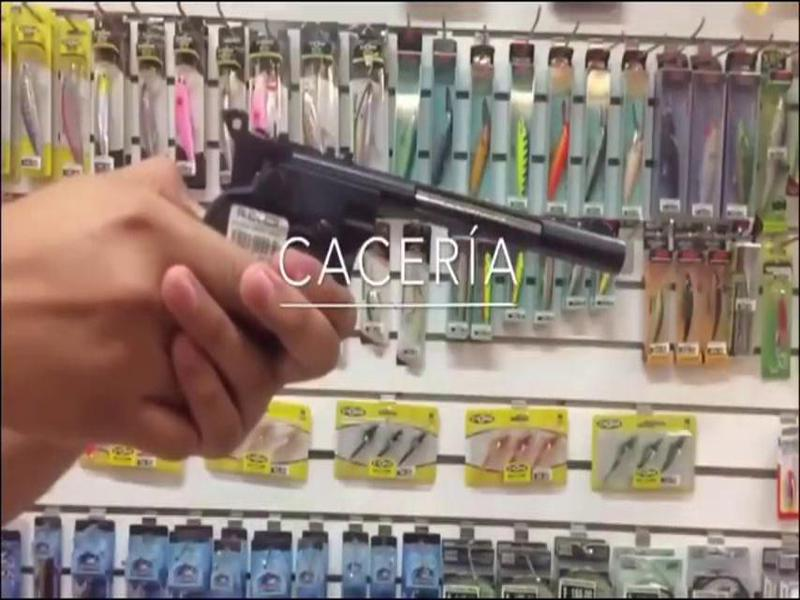Pistola: (117, 109, 629, 386)
